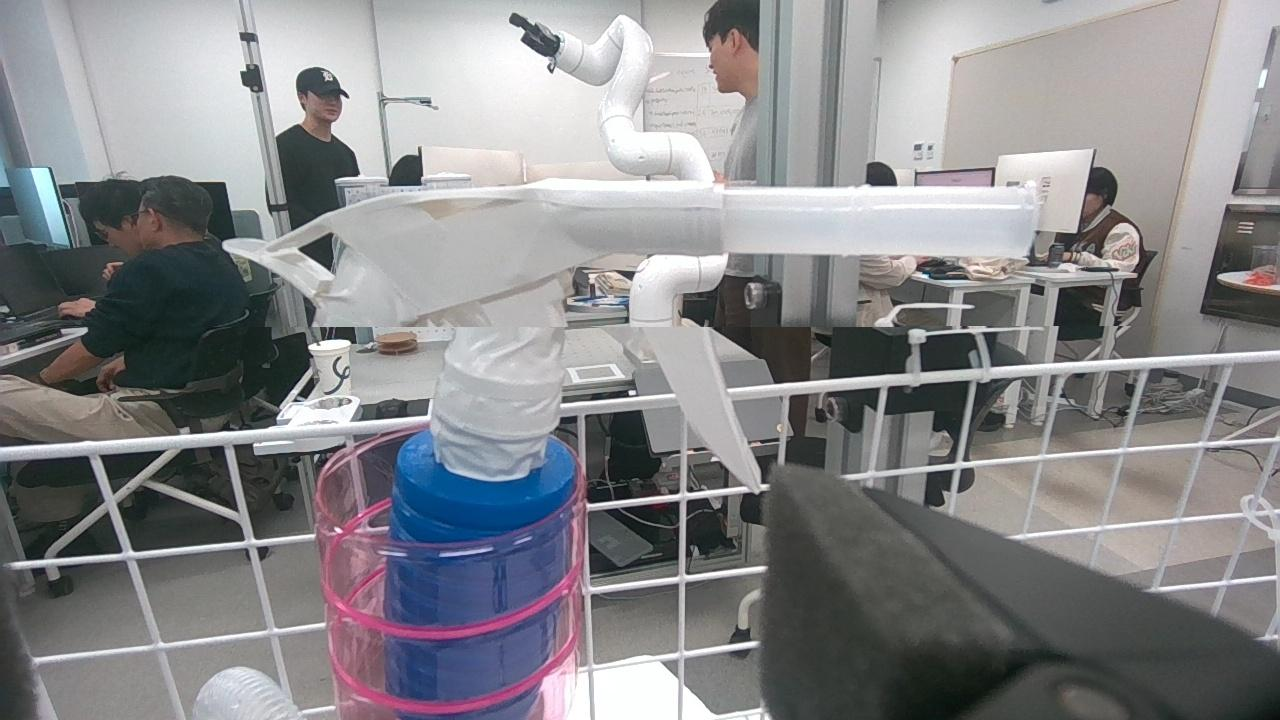Nozzle: (217, 174, 727, 668)
